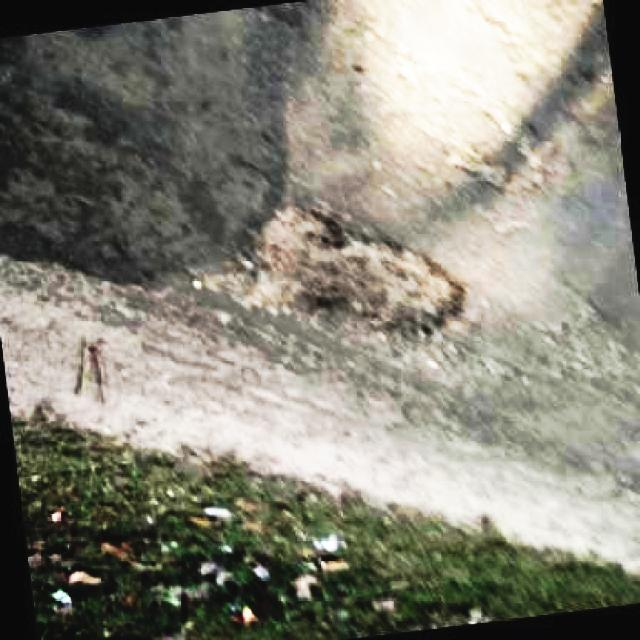pothole: (246, 202, 462, 336)
